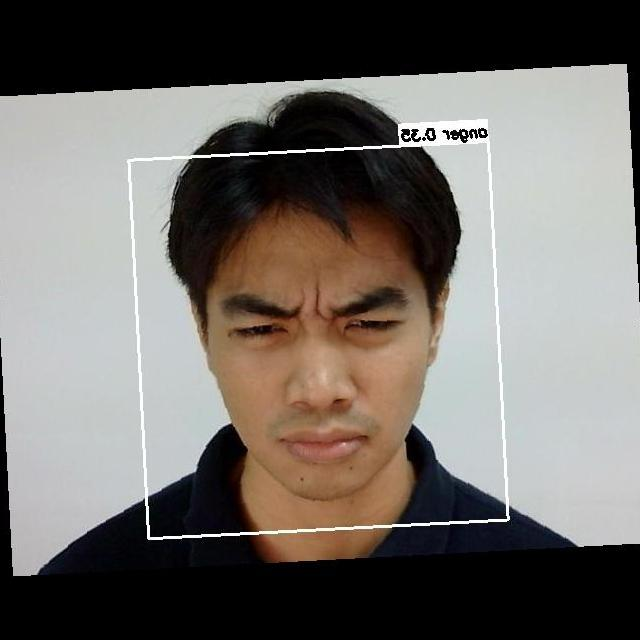Angry: (192, 253, 442, 496)
